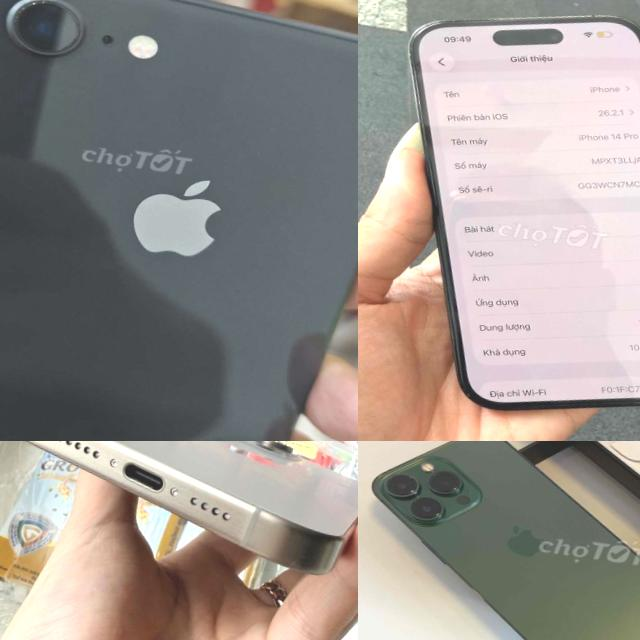gen_12_13: (358, 441, 640, 640)
gen_14: (358, 0, 640, 433)
gen_15: (0, 441, 358, 596)
gen_7_8: (0, 0, 358, 441)
